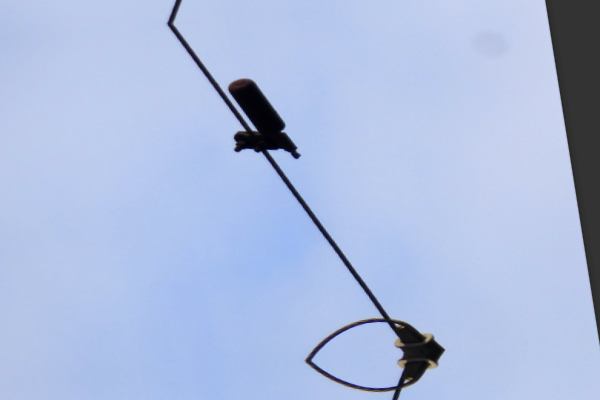damper_defect: (222, 76, 304, 164)
